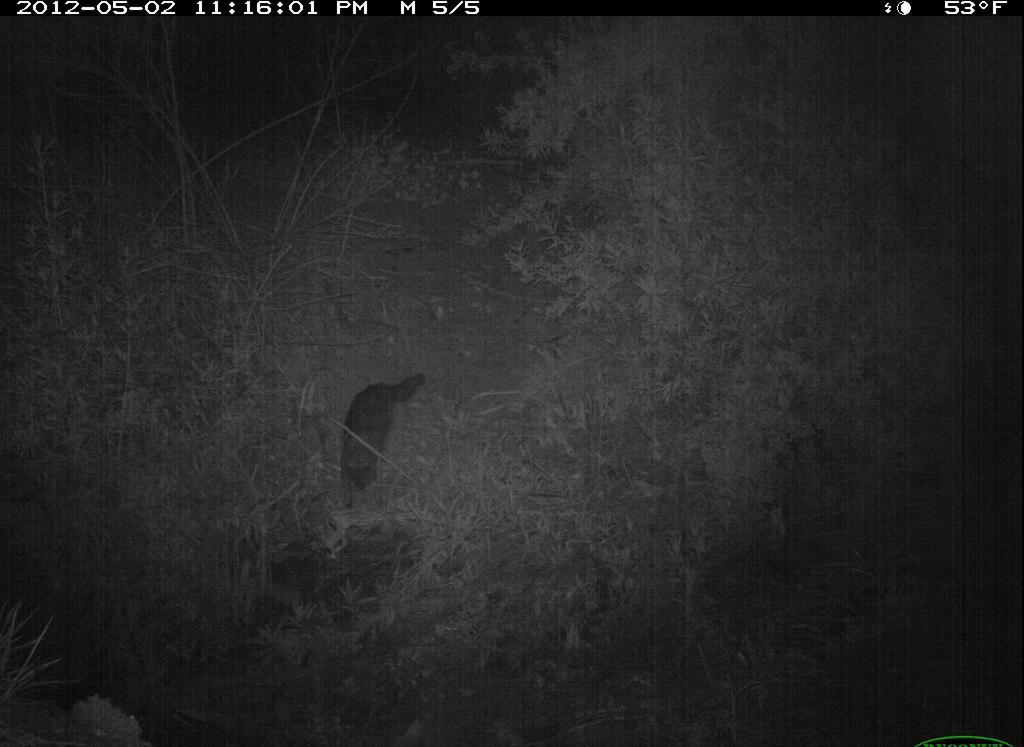cat: (333, 363, 432, 505)
